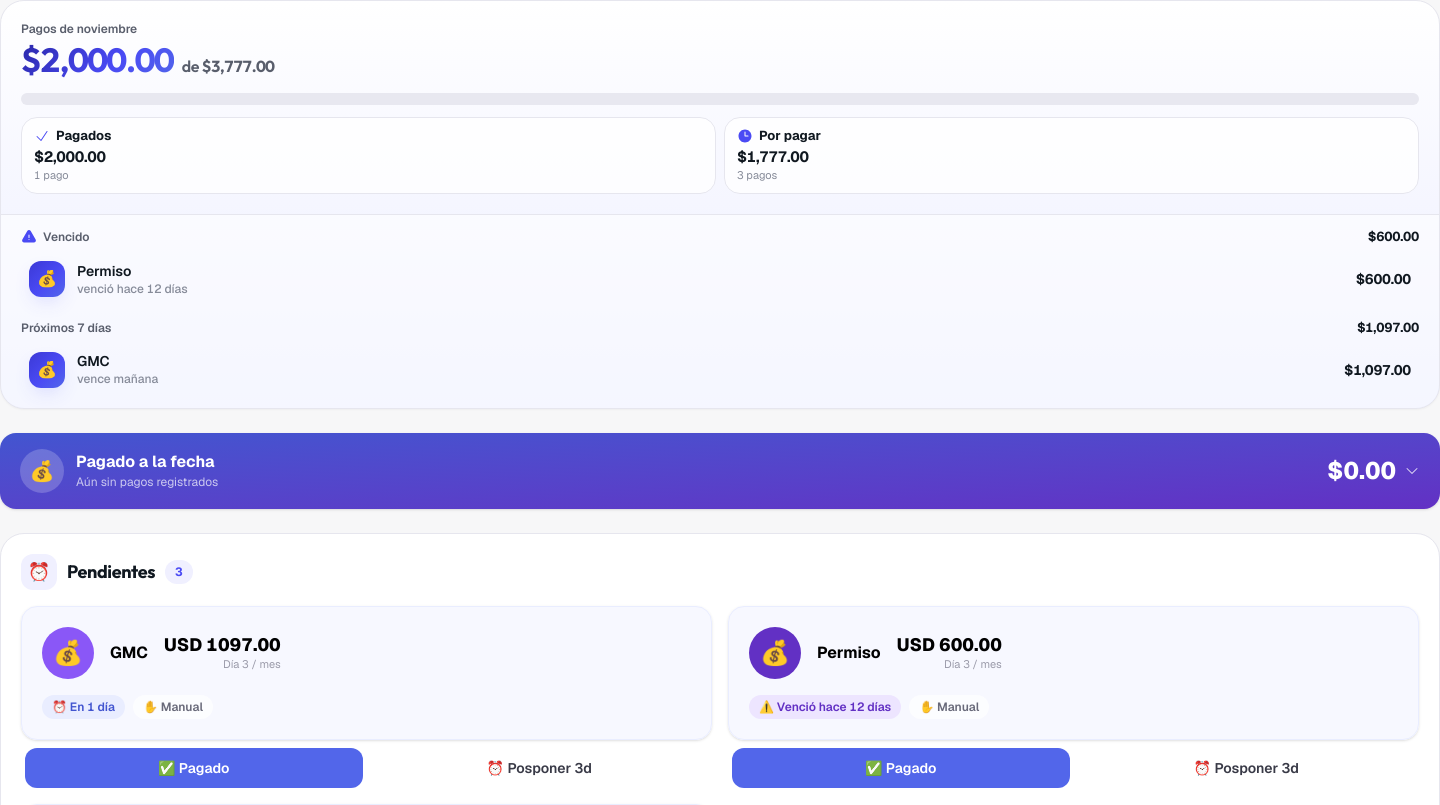
Test: PaymentsList — el mes de pagos › los chips filtran la lista, y tocar otra vez lo quita
The image size is (1440, 805).
What coordinates should you click on to do the following:
click the button "Pagados $2,000.00 1 pago"
I would click on:
 (84, 135)
Its box is 21,117 -> 716,194.
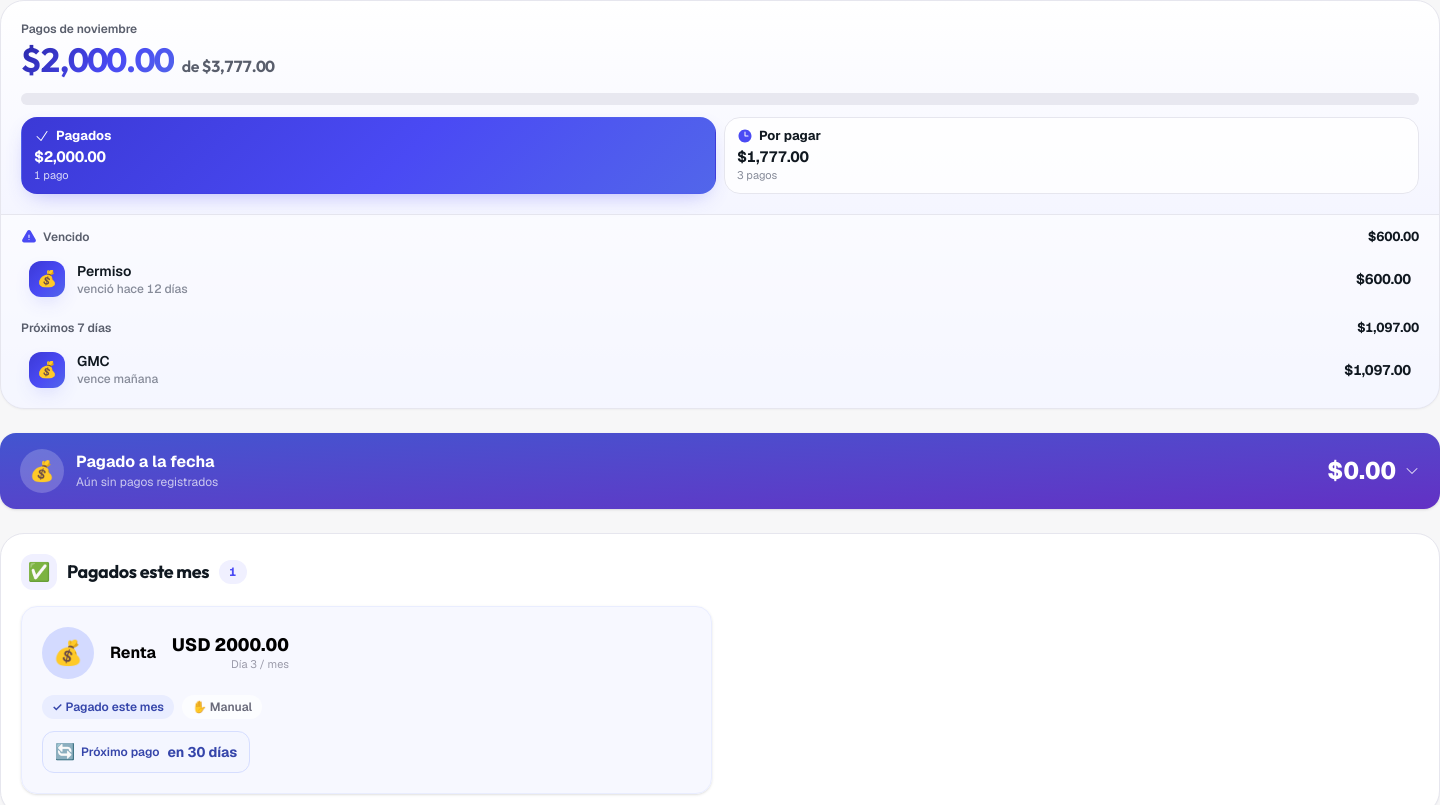
Expected: the heading "Pagados este mes" is shown, 67,558 -> 209,586
Result: the heading "Pendientes" is gone
What coordinates should you click on to do the following:
click the button "Pagados $2,000.00 1 pago"
I would click on:
 (84, 135)
Its box is 21,117 -> 716,194.
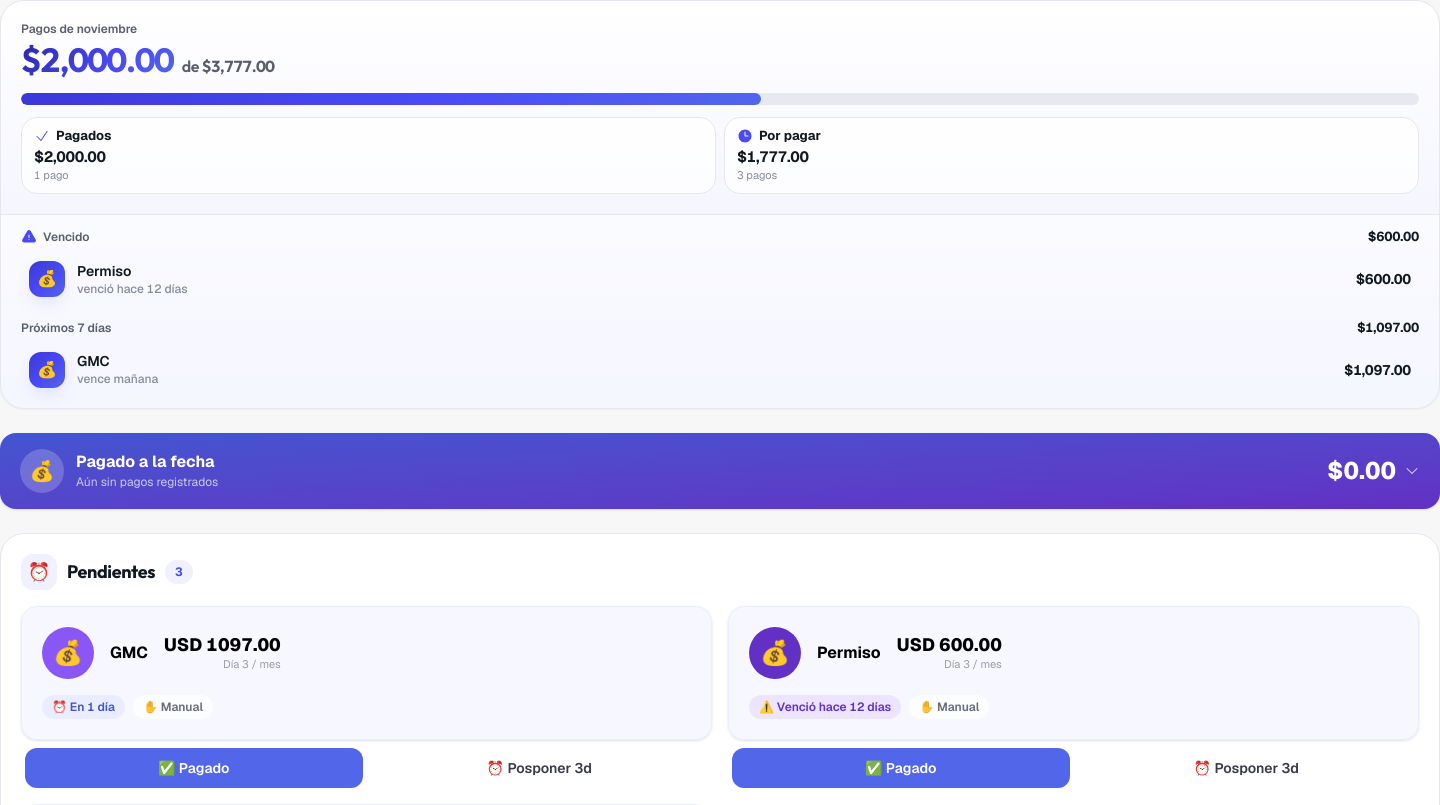
Result: the heading "Pendientes" is shown at 67,558 -> 155,586
